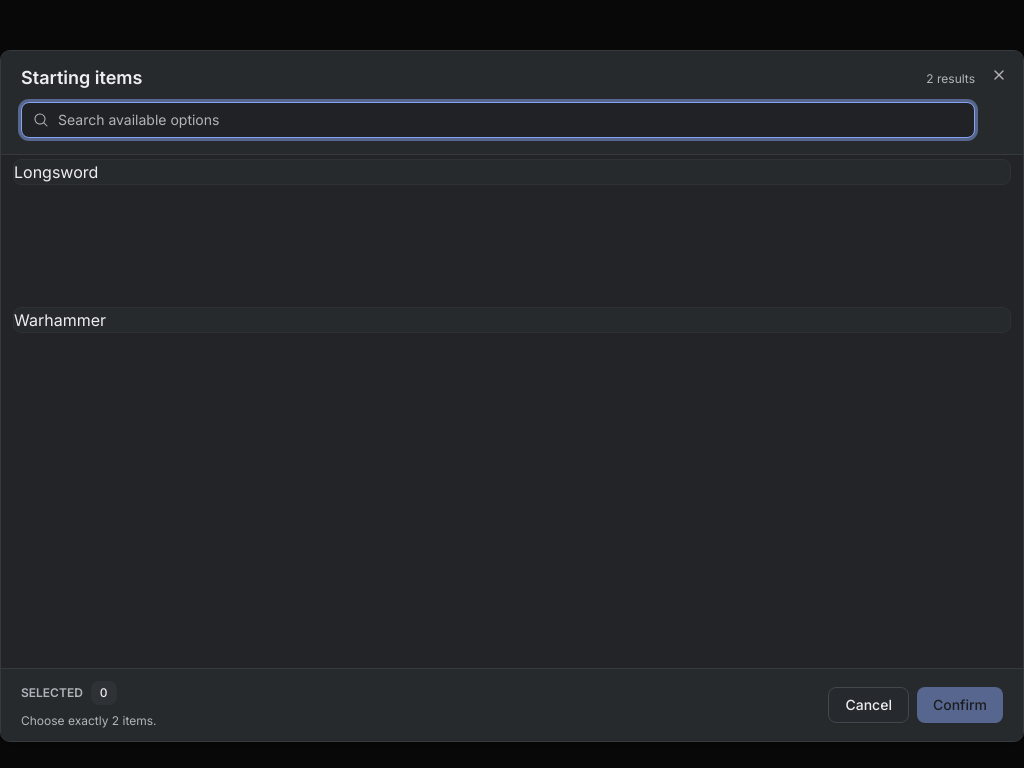
Test: one card supports two copies; exact Confirm, decrement, search and independent second item
The image size is (1024, 768).
Later steps or results of the test are not shown.
expect the button "Confirm" is disabled: met, box 917,687 -> 1003,723
What coordinates should you click on to do the following:
click the button "Longsword"
I would click on:
 (56, 172)
Its box is 13,159 -> 1011,185.
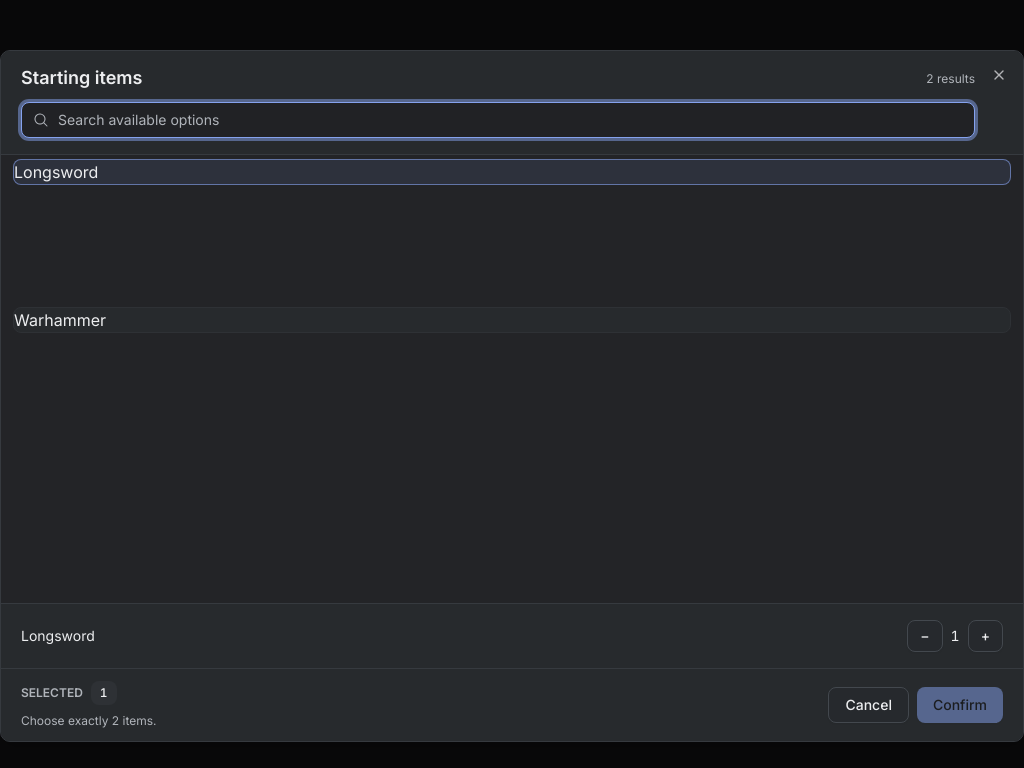
expect the button "Confirm" is disabled: met, box 917,687 -> 1003,723
What coordinates should you click on to do the following:
click the button named "Increase Longsword quantity"
I would click on:
 (985, 636)
Its box is 968,620 -> 1003,652.
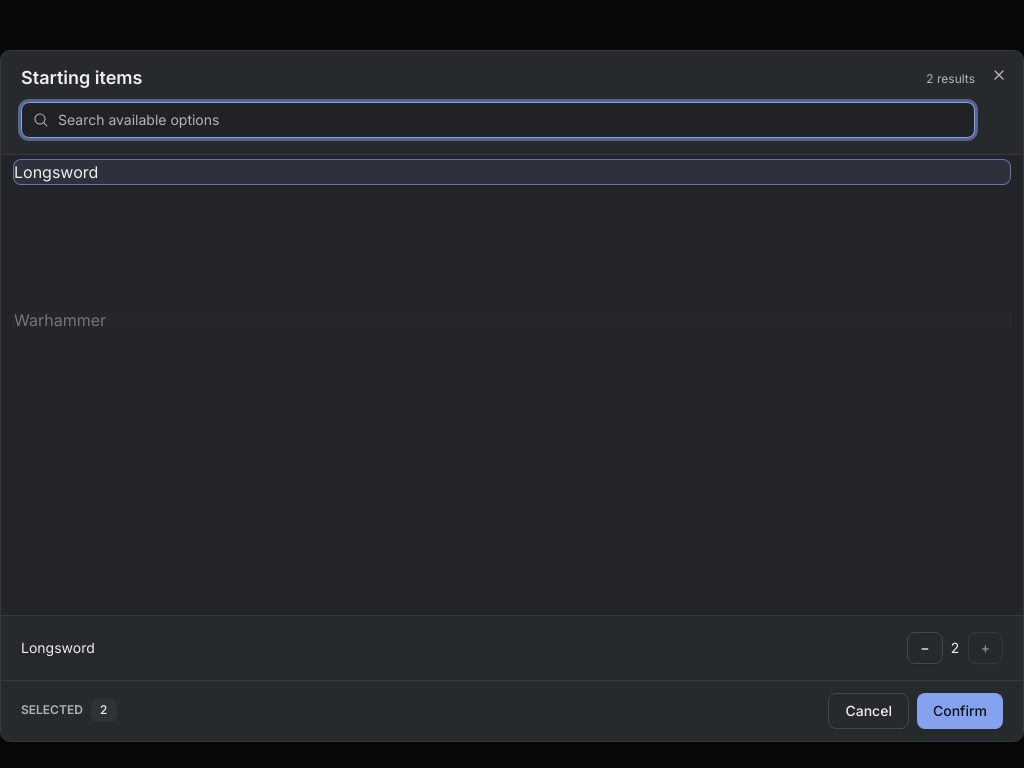
expect the button "Confirm" is enabled: met, box 917,693 -> 1003,729
expect the text named "Longsword quantity" reads "2": met, box 951,639 -> 960,656
expect the button named "Increase Longsword quantity" is disabled: met, box 968,632 -> 1003,664
